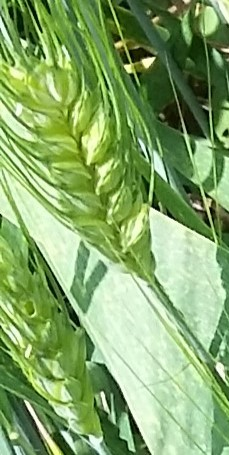Healthy Wheat: (12, 43, 169, 281)
